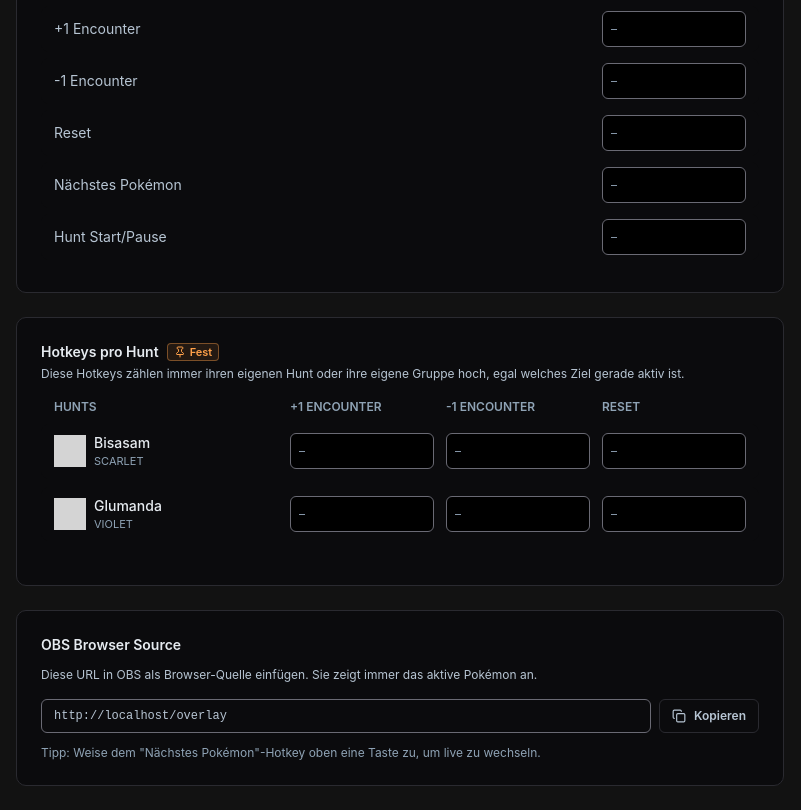
Test: HotkeyPage › OBS Browser Source card › copies the universal URL to the clipboard when the copy button is clicked
(page scrolled)
Click the button with aria-label "Universelle URL kopieren" at (709, 716), box [659,699,759,733]
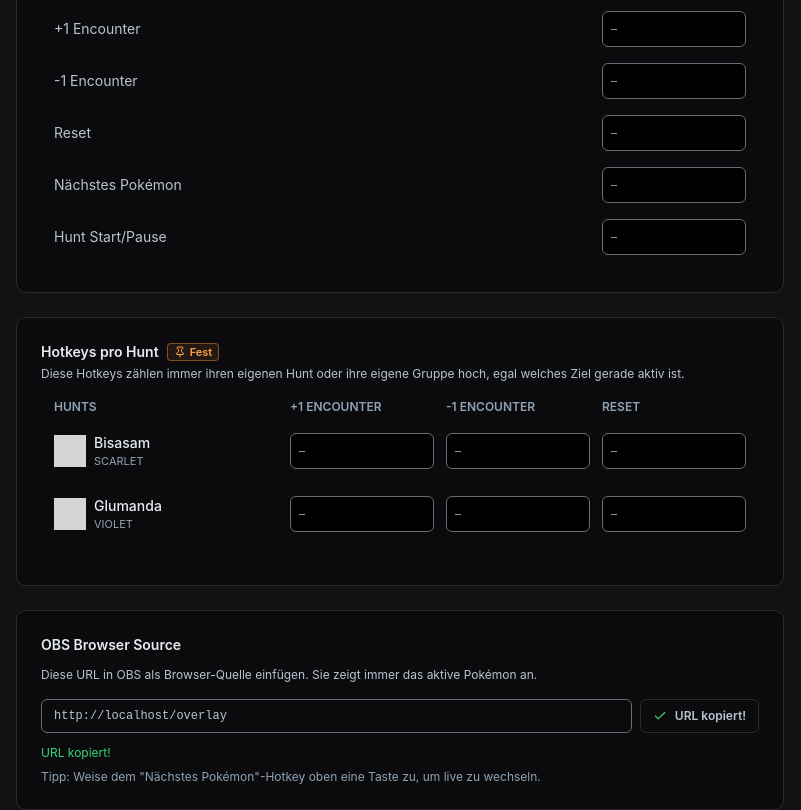
Expected: the 1st text "URL kopiert!" is shown, [675,708,746,724]
